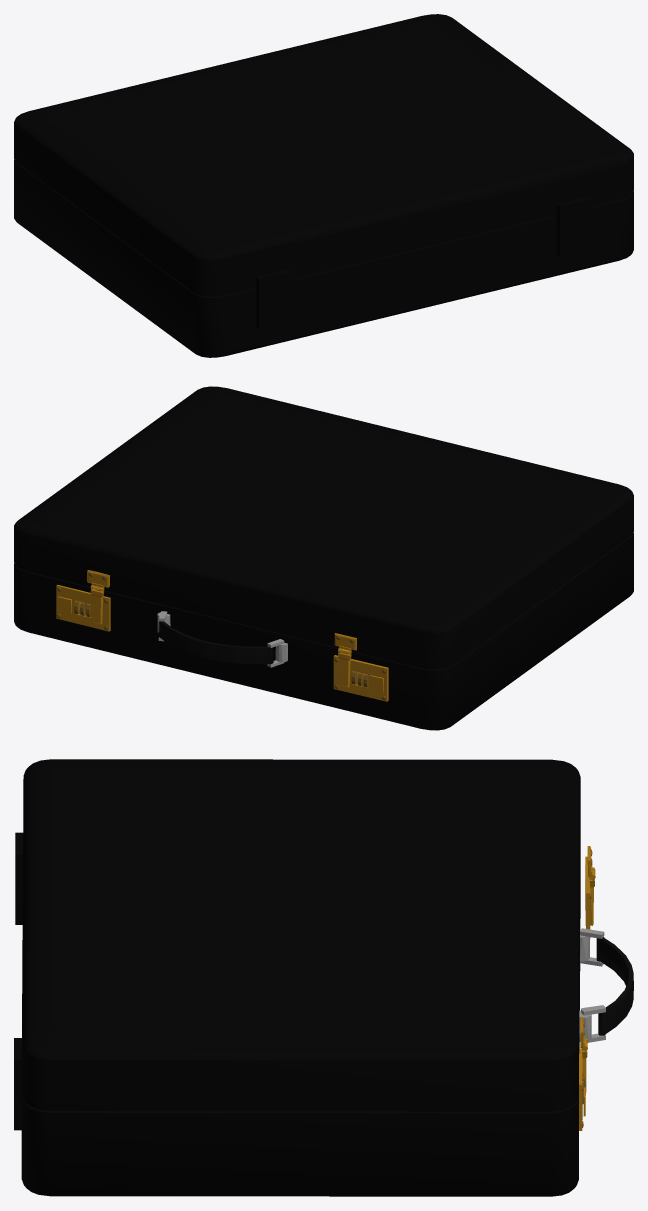
File: briefcase.fbx
3 renders of one model, top to bottom at view 1: azimuth 30°, elevation 25°; view 2: azimuth 150°, elevation 25°; view 3: azimuth 270°, elevation 25°, orthographic. The views are drawn at different scales.
Visible parts, largest first — view 1: Briefcase.002, Briefcase; view 2: Briefcase.002, Briefcase, Briefcase.001; view 3: Briefcase.002, Briefcase, Briefcase.001.
Boxes of the visible parts, x1,y1,x2,y2 form: Briefcase.002: (14, 14, 633, 296); Briefcase: (14, 159, 633, 357); Briefcase.002: (14, 386, 633, 668); Briefcase: (14, 532, 633, 730); Briefcase.001: (56, 570, 388, 701); Briefcase.002: (21, 759, 580, 1110); Briefcase: (14, 832, 586, 1196); Briefcase.001: (579, 846, 633, 1130).
Size of the model in its own units: 82.18 by 19.19 by 71.97.
